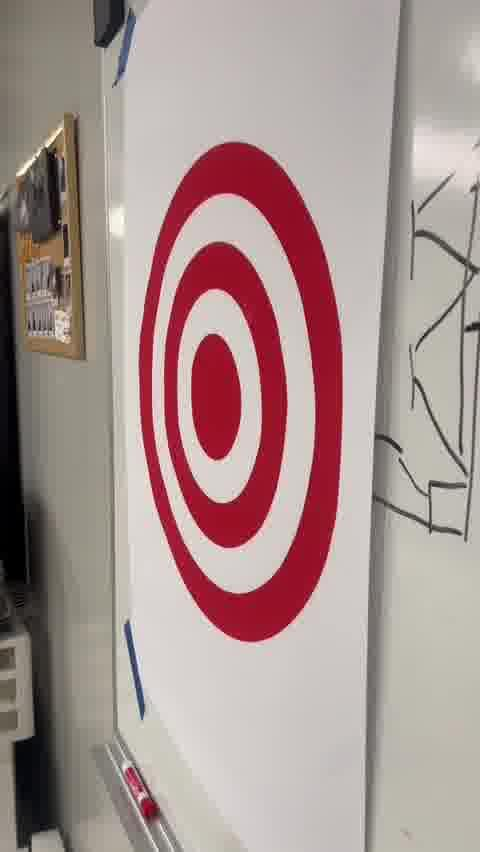target_red: (142, 140, 343, 641)
